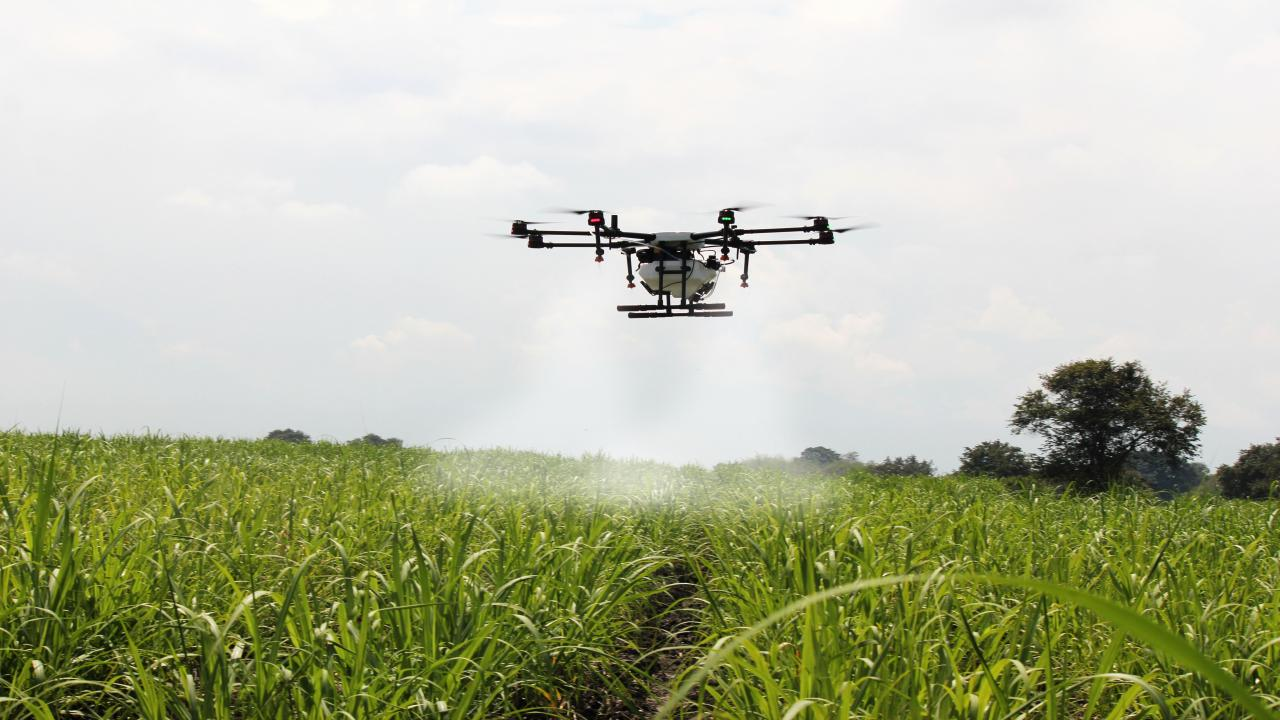Drone: (466, 188, 894, 336)
